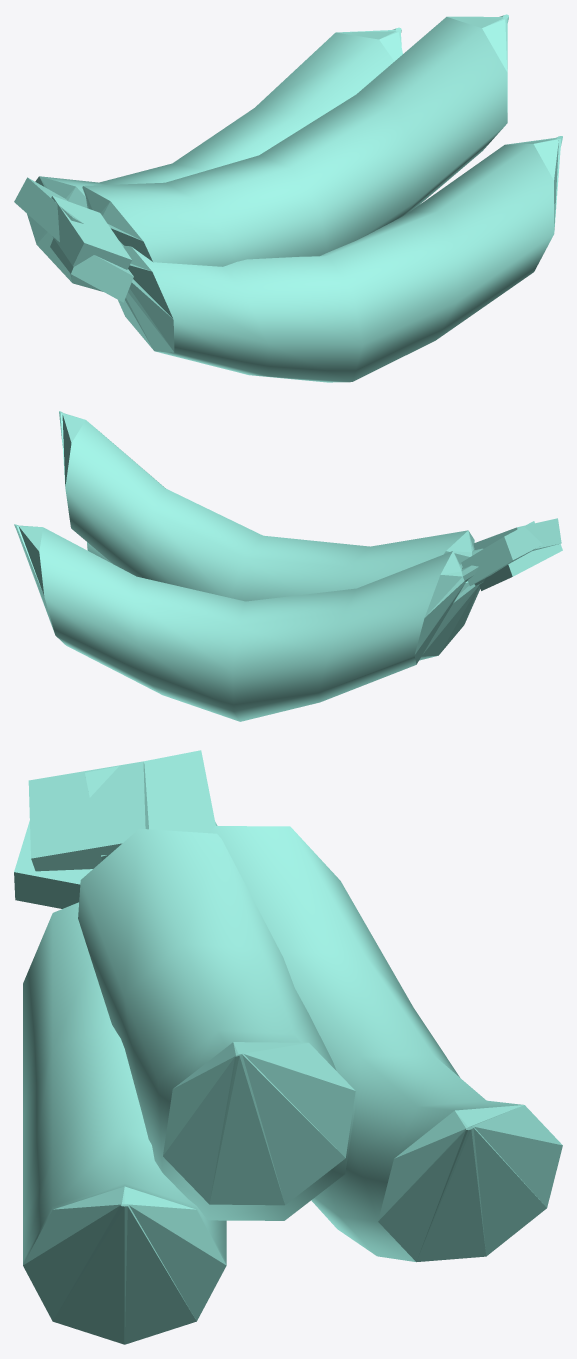
Rendered from platanos.glb.
3 views of the same model, one above another, from view 1: azimuth 30°, elevation 25°; view 2: azimuth 150°, elevation 25°; view 3: azimuth 270°, elevation 25° (orthographic). The views are drawn at different scales.
Visible parts, largest first — view 1: Cylinder001 (×3); view 2: Cylinder001 (×3); view 3: Cylinder001 (×3).
Part boxes in pixels (x1,y1,x2,y2): Cylinder001 (×3): [14, 14, 562, 382]; Cylinder001 (×3): [14, 411, 562, 721]; Cylinder001 (×3): [14, 750, 562, 1344].
Size of the model in its own units: 0.6001 by 0.314 by 0.375.
